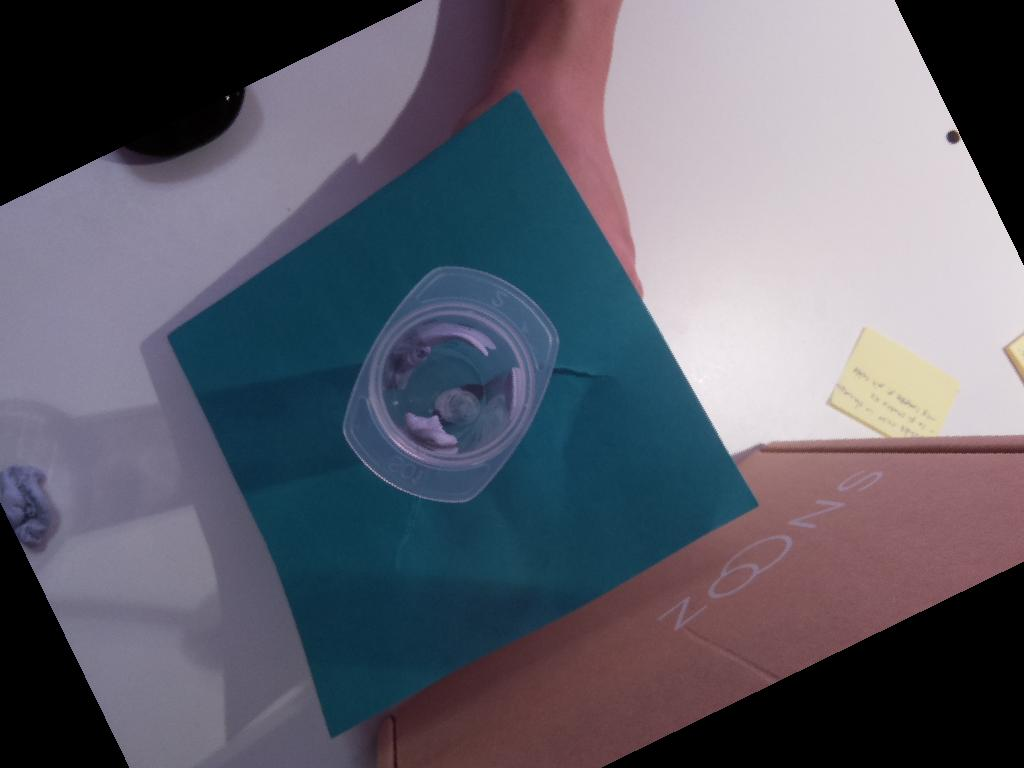dirty: (341, 263, 561, 506)
